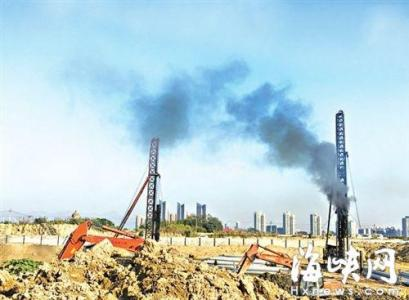smoke: (239, 95, 354, 210)
